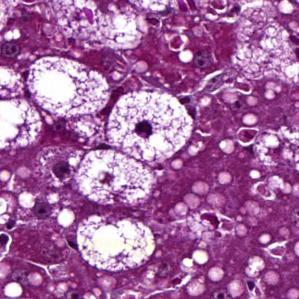ballooning: (103, 86, 195, 165), (22, 53, 114, 122), (73, 145, 158, 210), (78, 206, 159, 273)
